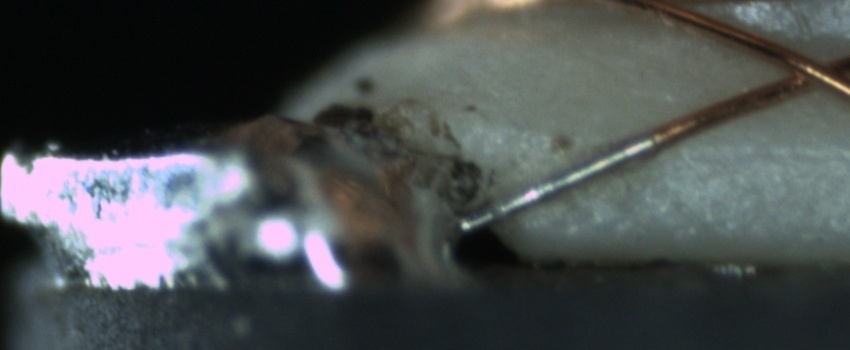CL: (763, 41, 848, 103)
DL: (669, 124, 850, 183)
TS: (455, 132, 657, 241)
